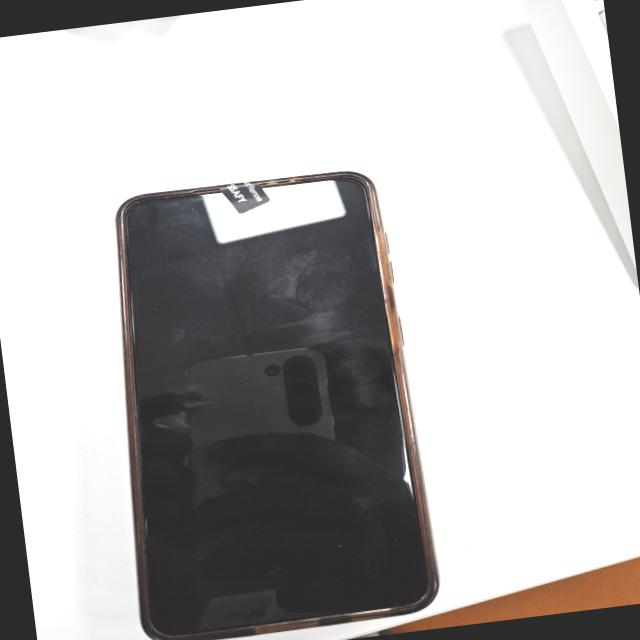phone: (90, 159, 447, 640)
sticker: (217, 179, 272, 216)
